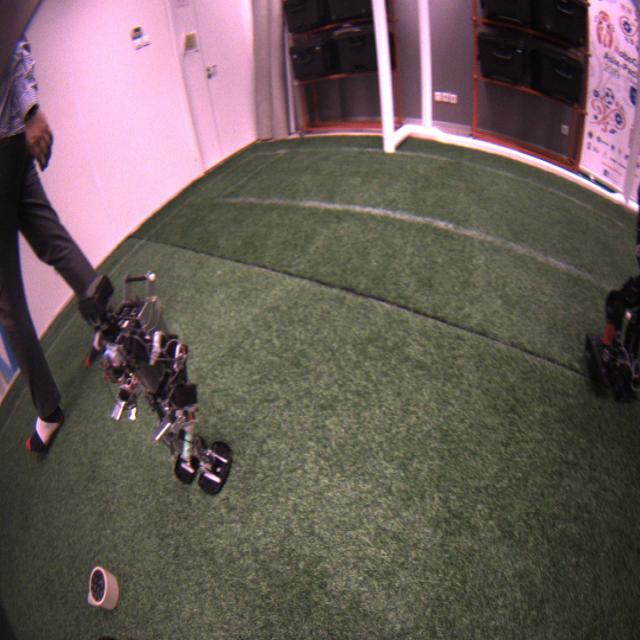goalpost: (370, 2, 396, 153)
